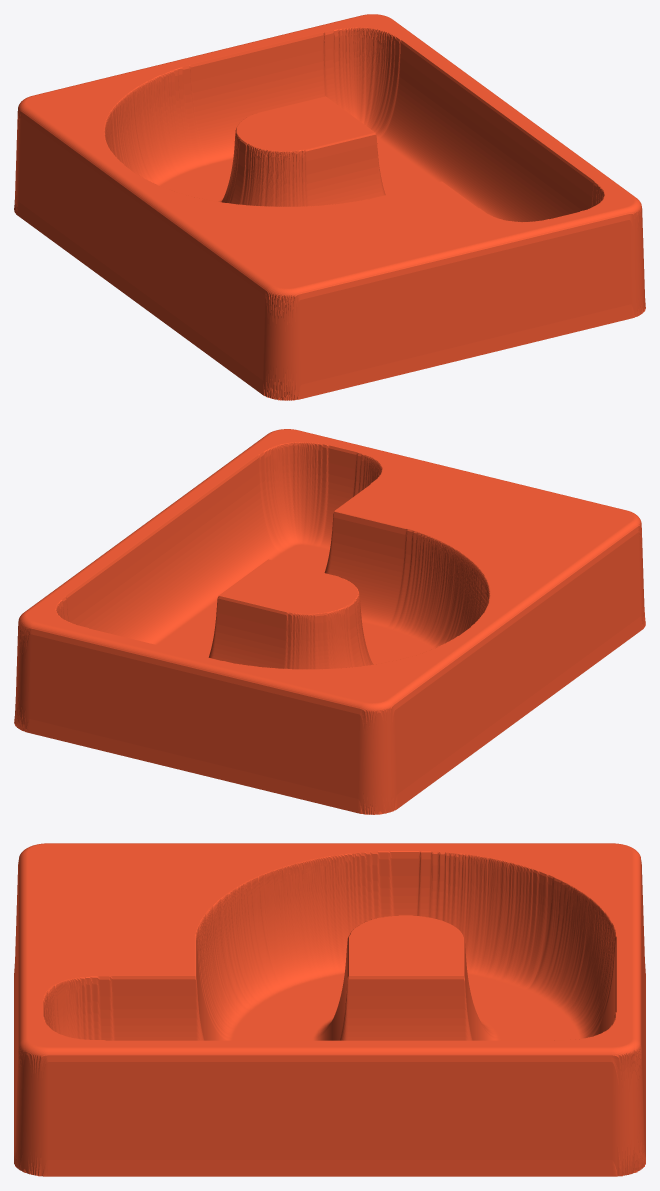
Rendered from mold.glb.
3 renders of one model, top to bottom at view 1: azimuth 30°, elevation 25°; view 2: azimuth 150°, elevation 25°; view 3: azimuth 270°, elevation 25°, orthographic. The views are drawn at different scales.
Parts seen in each view (by area): view 1: geometry_0; view 2: geometry_0; view 3: geometry_0.
Boxes of the visible parts, x1=… form: geometry_0: x1=14, y1=14, x2=645, y2=400; geometry_0: x1=14, y1=429, x2=645, y2=814; geometry_0: x1=14, y1=843, x2=645, y2=1176.
Size of the model in its own units: 0.1356 by 0.0365 by 0.1689.
